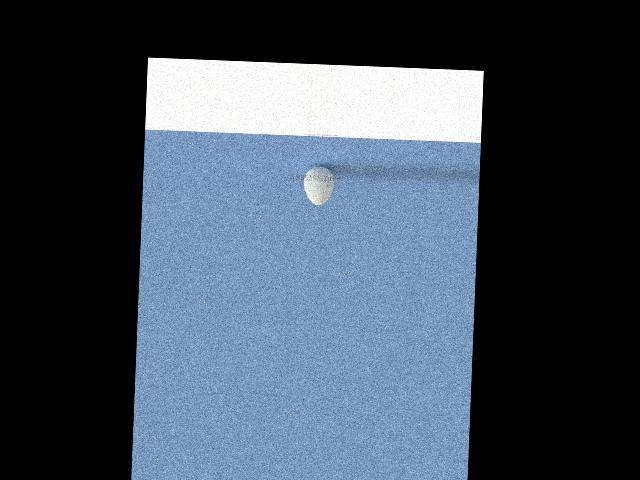egg: (302, 165, 334, 205)
